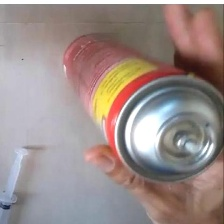aerosol_cans: (56, 26, 224, 188)
